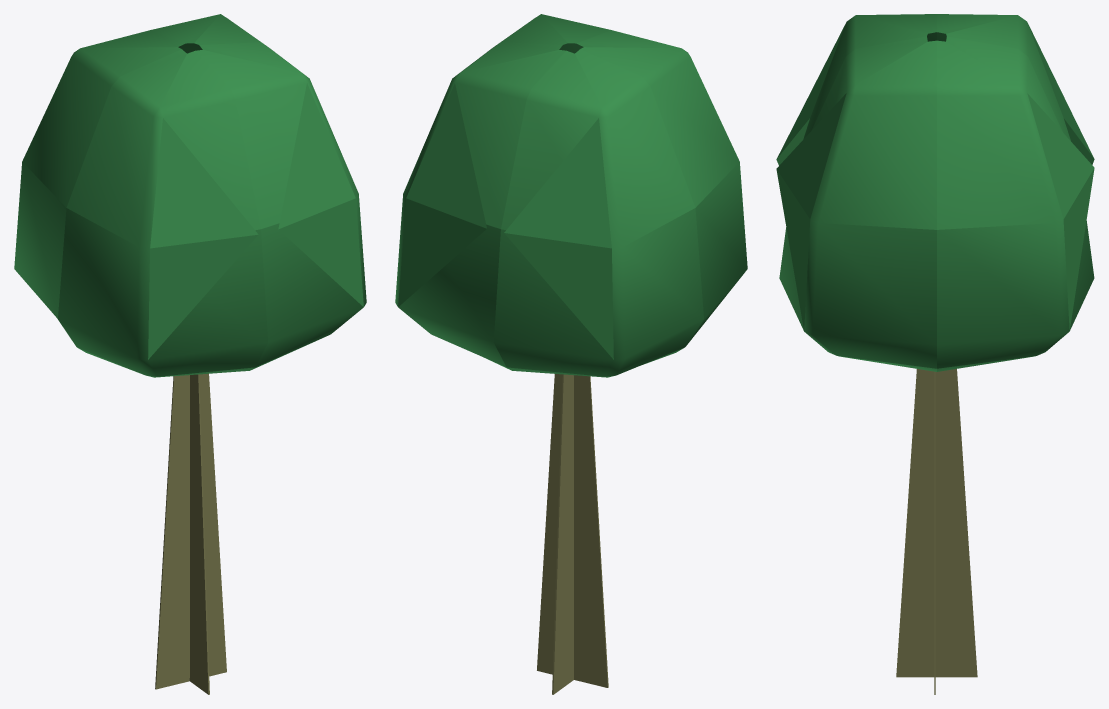
File: TreeSquare_Medium.fbx
The picture shows the model from 3 angles, left to right: view 1: azimuth 30°, elevation 25°; view 2: azimuth 150°, elevation 25°; view 3: azimuth 270°, elevation 25°; orthographic projection.
Visible parts, largest first — view 1: TREE_MEDIUM_SQUARE; view 2: TREE_MEDIUM_SQUARE; view 3: TREE_MEDIUM_SQUARE.
Part boxes in pixels (x1,y1,x2,y2): TREE_MEDIUM_SQUARE: (14, 14, 366, 694); TREE_MEDIUM_SQUARE: (395, 14, 747, 694); TREE_MEDIUM_SQUARE: (776, 14, 1094, 694).
Size of the model in its own units: 451 by 1027 by 462.
